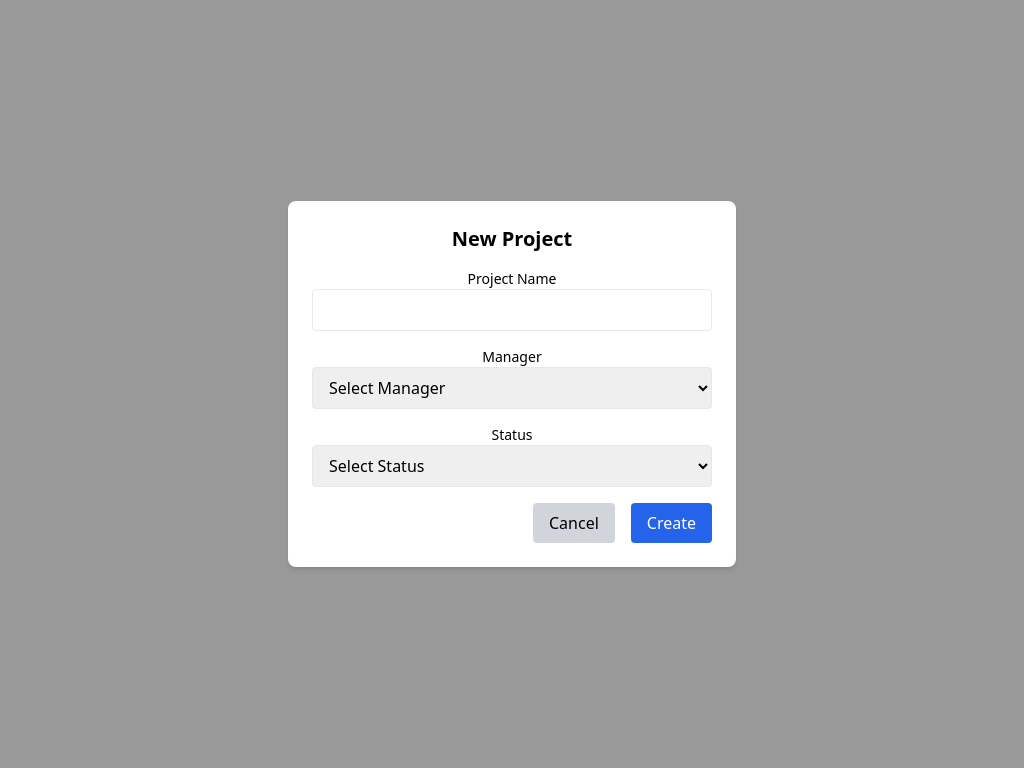
ProjectFormModal › shows validation errors on empty submit
Click the button "Create" at coordinates (671, 523), box [631,503,712,543]
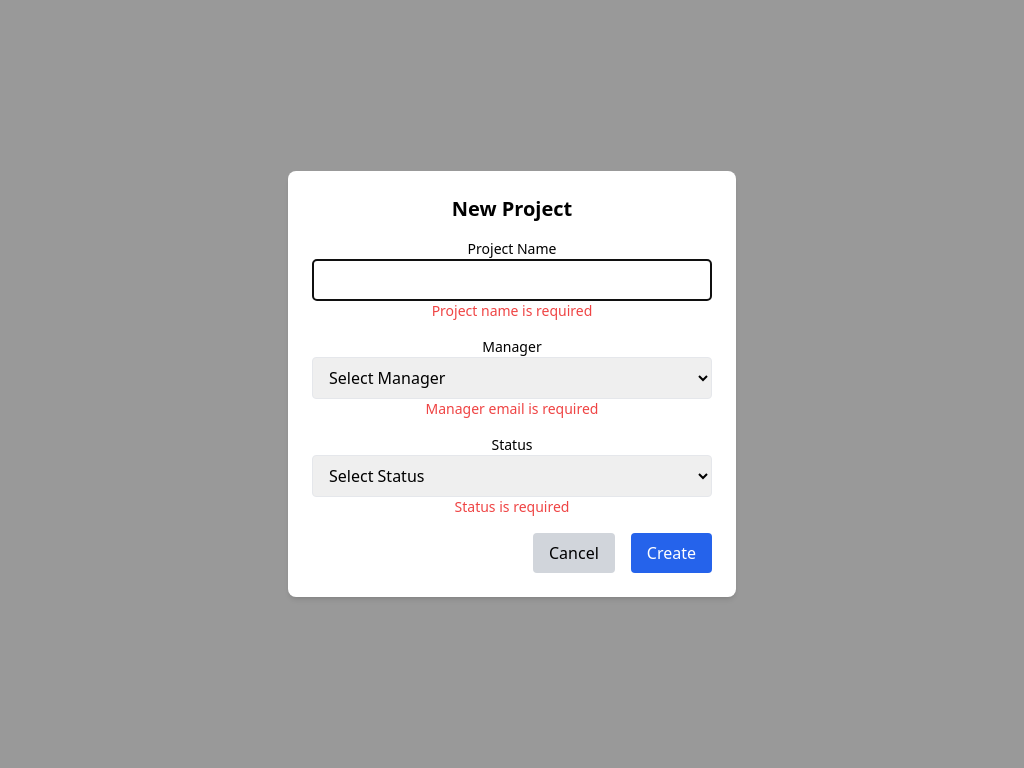
Now the text "Project name is required" is shown, box [432,301,592,320]
Now the text "Manager email is required" is shown, box [426,399,598,418]
Now the text "Status is required" is shown, box [454,497,569,516]
